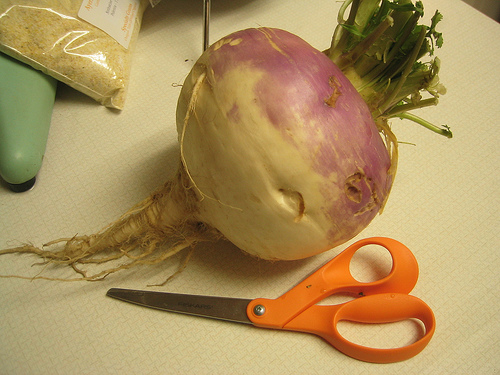turnip: (11, 25, 399, 289)
